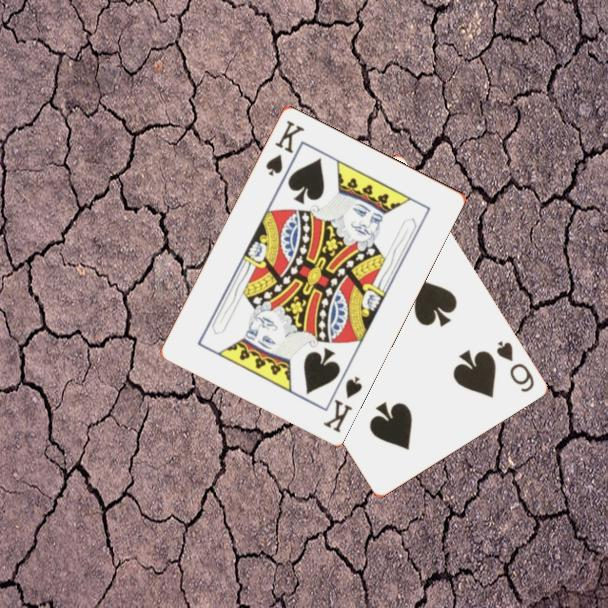s06: (492, 337, 537, 395)
s13: (319, 372, 365, 435), (262, 116, 307, 179)
